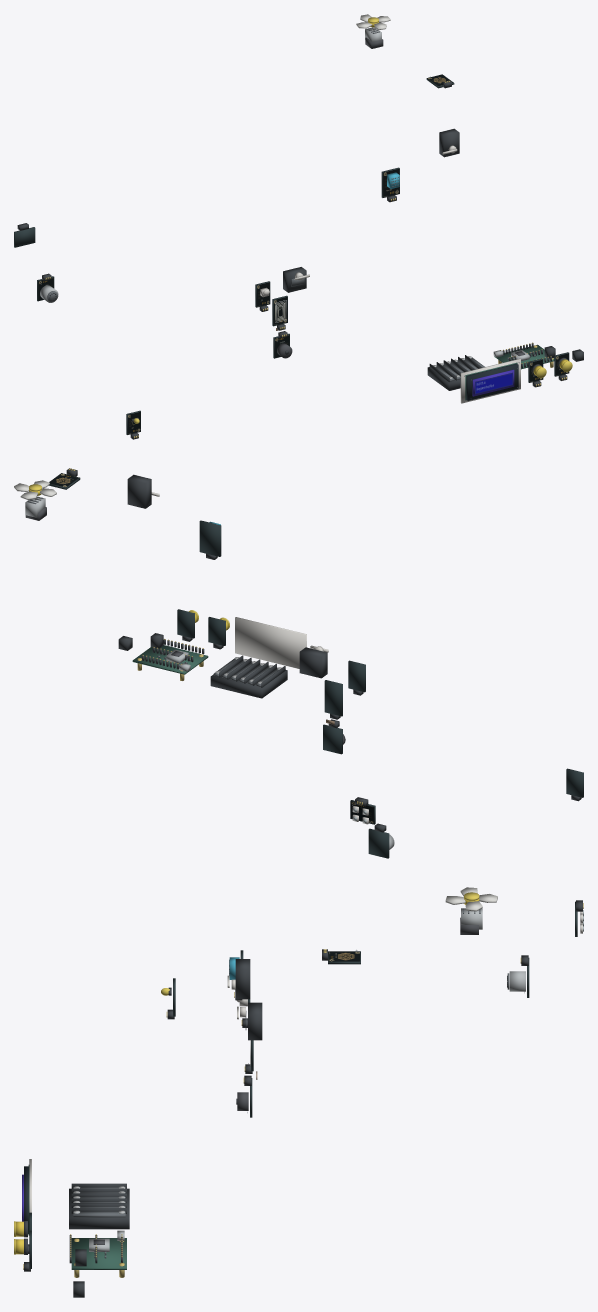
The model's file is componentes_casa_premium_v02.glb.
3 views of the same model, one above another, from view 1: azimuth 30°, elevation 25°; view 2: azimuth 150°, elevation 25°; view 3: azimuth 270°, elevation 25° (orthographic). The views are drawn at different scales.
Visible parts, largest first — view 1: LCD1602__LCD1602_Front_Frame, LCD1602__LCD1602_Front_MetalMountingPlate, BATERIA__Battery_Channel_Spines; view 2: LCD1602__LCD1602_Front_MetalMountingPlate, BATERIA__Battery_6AA_Back, BATERIA__Battery_Channel_Spines, ESP32__ESP32PLUS_ControlBoard, SERVO_PORTA__Servo_Right_Unit, SERVO_JANELA__Servo_Window_Unit, DHT11__DHT11_Roof_PCB, RFID__RFID_Front_PCB, MQ2__Gas_Back_PCB, ESP32__ESP32PLUS_PinHeaders, BUZZER__Buzzer_Back_PCB, PIR__PIR_Front_PCB; view 3: BATERIA__Battery_Channel_Spines, ESP32__ESP32PLUS_ControlBoard, BATERIA__Battery_6AA_Back, BATERIA__Battery_Empty_Channels, SERVO_JANELA__Servo_Window_Unit, SERVO_PORTA__Servo_Right_Unit, VENTOINHA__Fan_Rotor_Blades.
Boxes of the visible parts, x1=… form: LCD1602__LCD1602_Front_Frame: x1=466, y1=363, x2=518, y2=400; LCD1602__LCD1602_Front_MetalMountingPlate: x1=460, y1=358, x2=520, y2=403; BATERIA__Battery_Channel_Spines: x1=429, y1=355, x2=482, y2=381; LCD1602__LCD1602_Front_MetalMountingPlate: x1=235, y1=617, x2=306, y2=668; BATERIA__Battery_6AA_Back: x1=210, y1=661, x2=287, y2=698; BATERIA__Battery_Channel_Spines: x1=219, y1=655, x2=285, y2=687; ESP32__ESP32PLUS_ControlBoard: x1=132, y1=645, x2=208, y2=674; SERVO_PORTA__Servo_Right_Unit: x1=299, y1=647, x2=327, y2=678; SERVO_JANELA__Servo_Window_Unit: x1=127, y1=474, x2=151, y2=508; DHT11__DHT11_Roof_PCB: x1=199, y1=520, x2=221, y2=556; RFID__RFID_Front_PCB: x1=324, y1=680, x2=342, y2=716; MQ2__Gas_Back_PCB: x1=368, y1=828, x2=389, y2=858; ESP32__ESP32PLUS_PinHeaders: x1=142, y1=639, x2=204, y2=669; BUZZER__Buzzer_Back_PCB: x1=323, y1=724, x2=342, y2=754; PIR__PIR_Front_PCB: x1=348, y1=660, x2=365, y2=692; BATERIA__Battery_Channel_Spines: x1=71, y1=1183, x2=126, y2=1213; ESP32__ESP32PLUS_ControlBoard: x1=71, y1=1238, x2=126, y2=1269; BATERIA__Battery_6AA_Back: x1=69, y1=1188, x2=129, y2=1229; BATERIA__Battery_Empty_Channels: x1=73, y1=1187, x2=125, y2=1217; SERVO_JANELA__Servo_Window_Unit: x1=235, y1=959, x2=250, y2=999; SERVO_PORTA__Servo_Right_Unit: x1=248, y1=1002, x2=262, y2=1040; VENTOINHA__Fan_Rotor_Blades: x1=445, y1=887, x2=497, y2=911.
Size of the model in its own units: 0.665 by 0.3855 by 0.5557.
11 materials, 11 textured.
